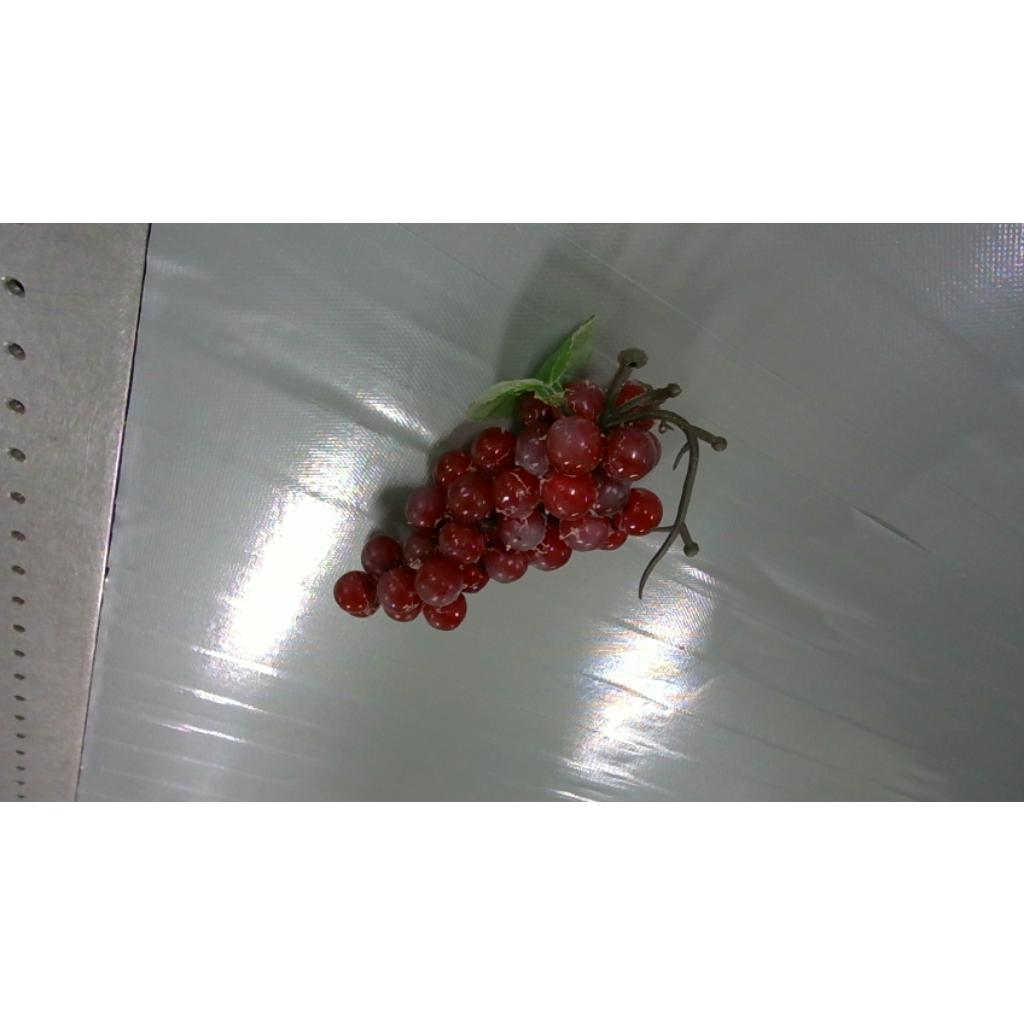grape: (334, 316, 726, 629)
